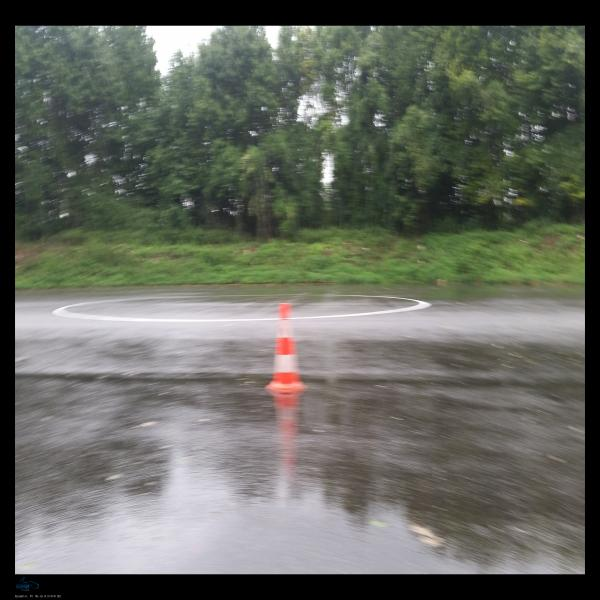large_orange_cone: (266, 303, 308, 394)
